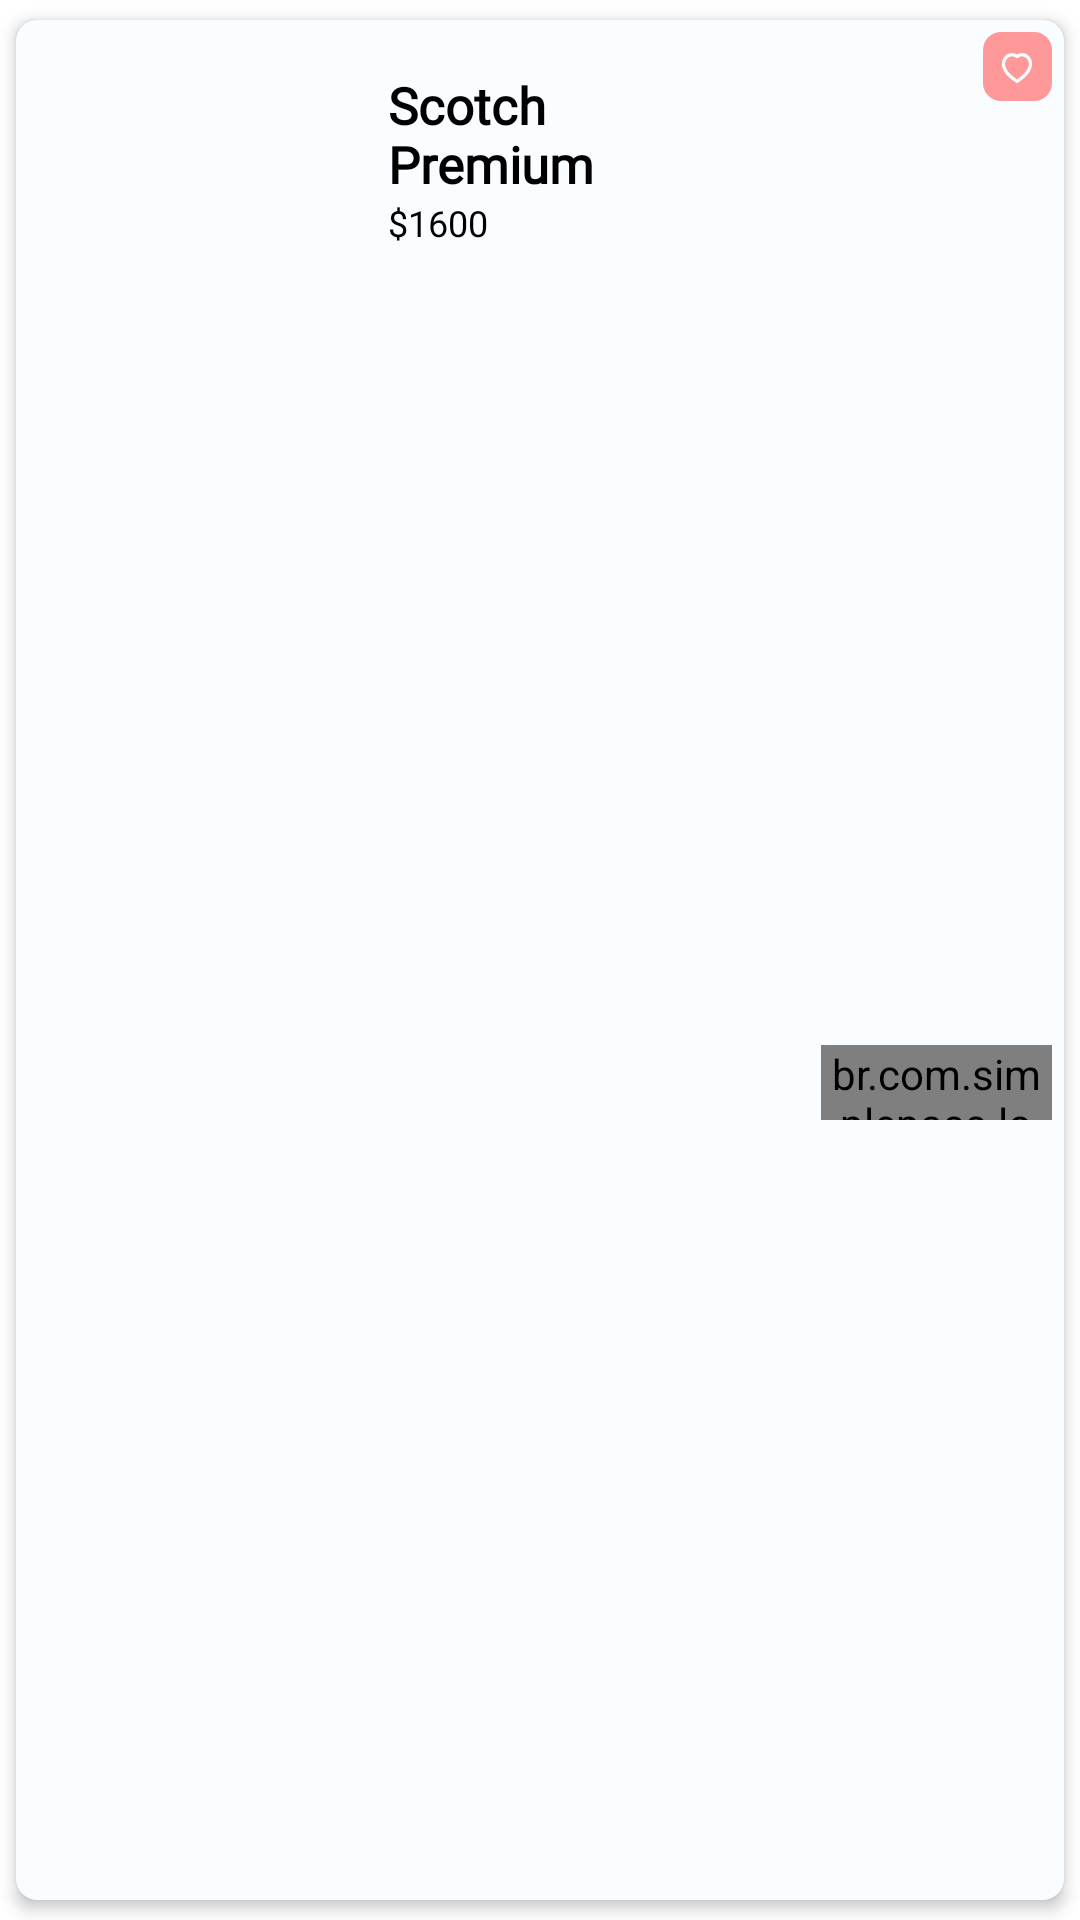

Locate icon controls on the screen. Image size 1080*1920, boxes as (x1, y1, x2, y2).
favorite: (1002, 53, 1032, 83)
